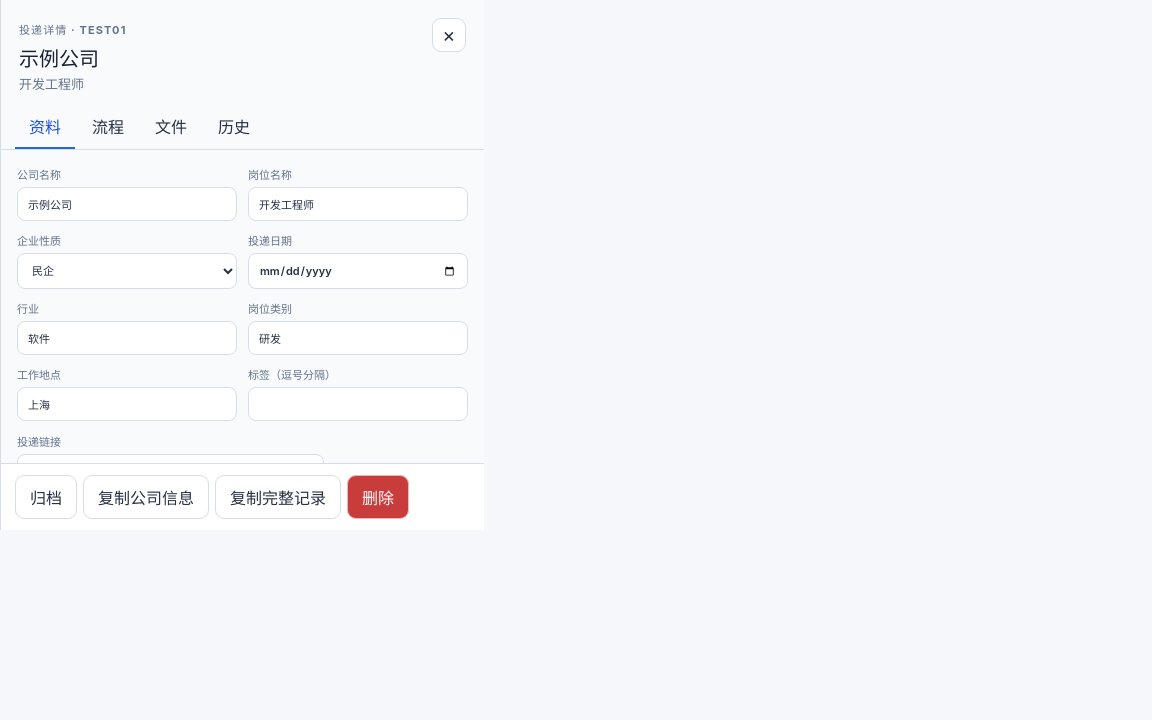
background copy feedback › cancels without copying and preserves the original when copying fails
Click the button "复制完整记录" at coordinates (278, 497), box [215,475,341,519]
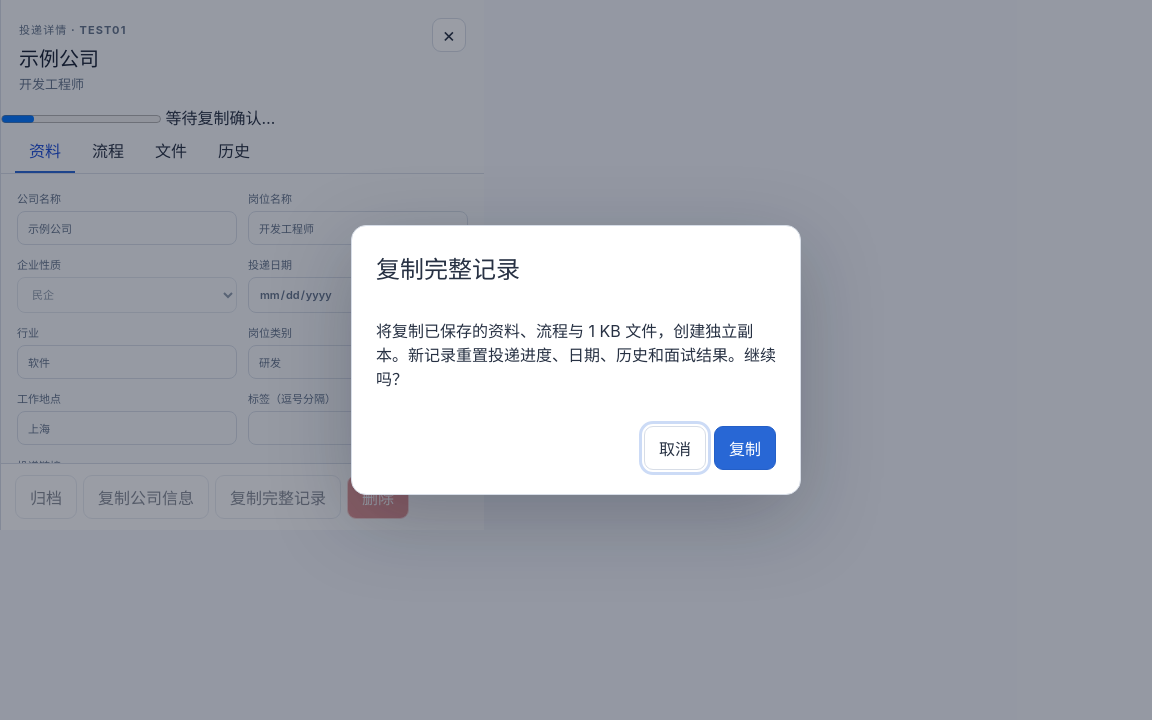
Click the button "取消" at coordinates (675, 448), box [644,426,706,470]
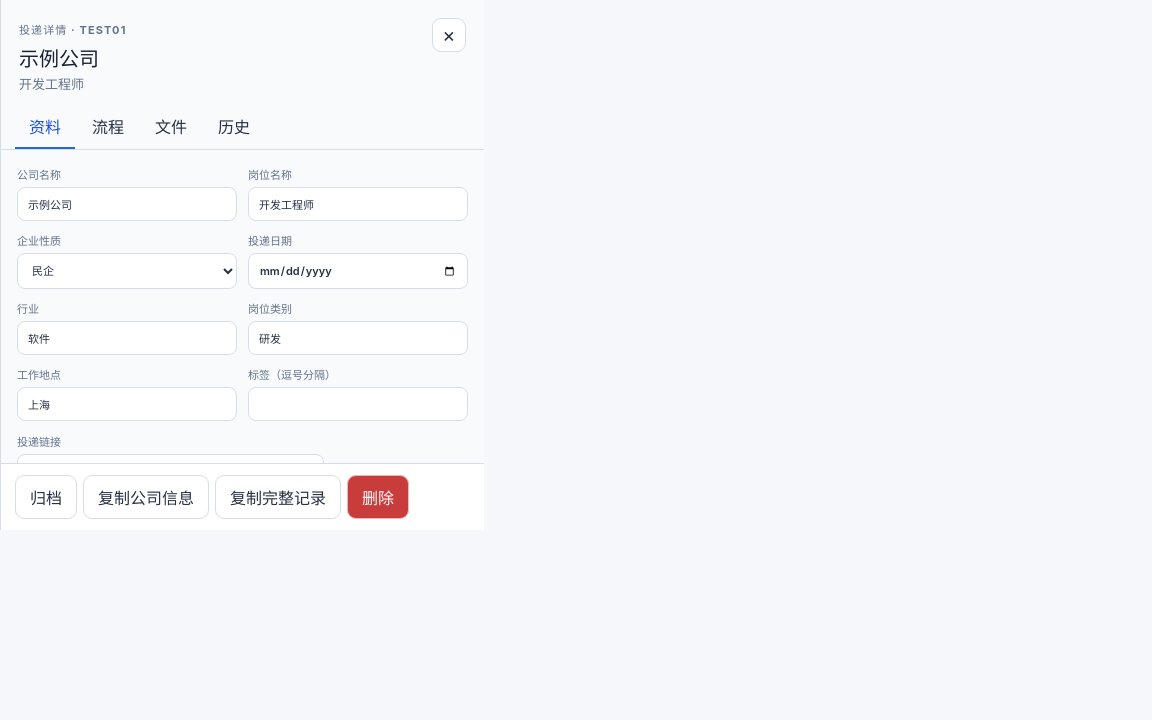
Now the button "复制完整记录" is enabled
Click the button "复制完整记录" at coordinates (278, 497), box [215,475,341,519]
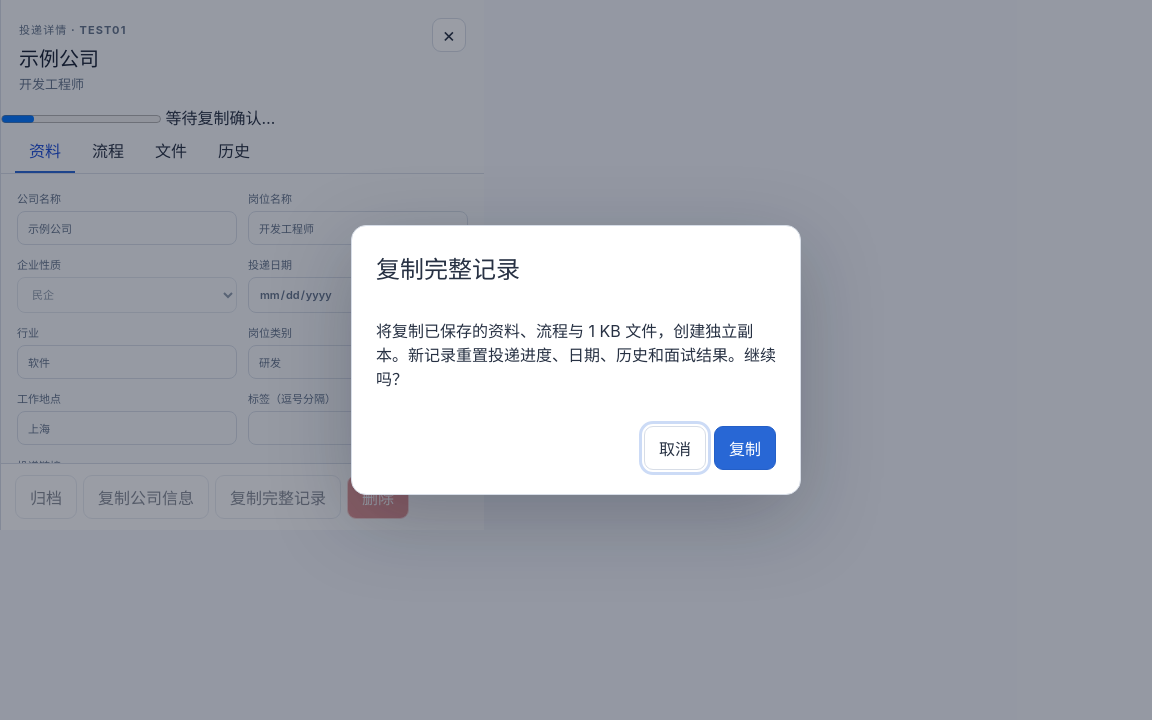
Click the button "复制" at coordinates (745, 448), box [714,426,776,470]
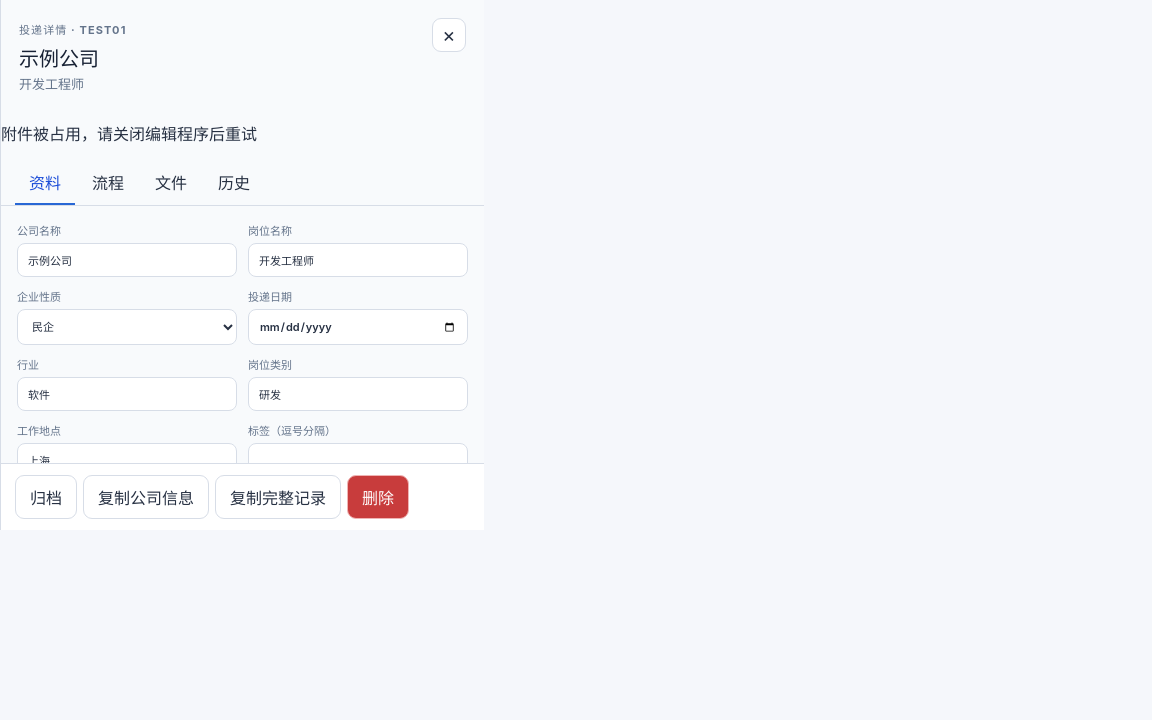
Now the message shows "附件被占用", box [1,124,257,144]
Now the button "复制完整记录" is enabled, box [215,475,341,519]
